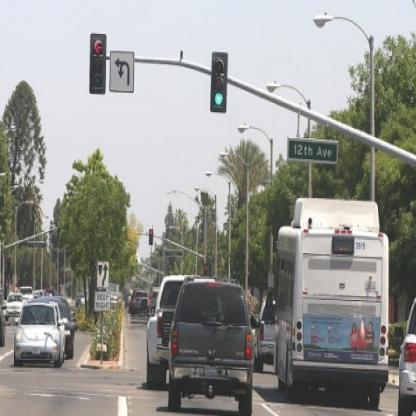green: (210, 52, 228, 113)
left-red: (89, 34, 106, 93)
